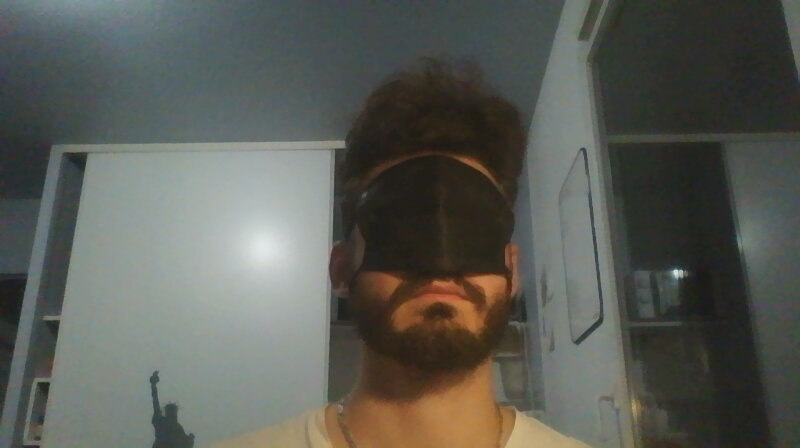with_incorrect_mask: (337, 142, 523, 376)
